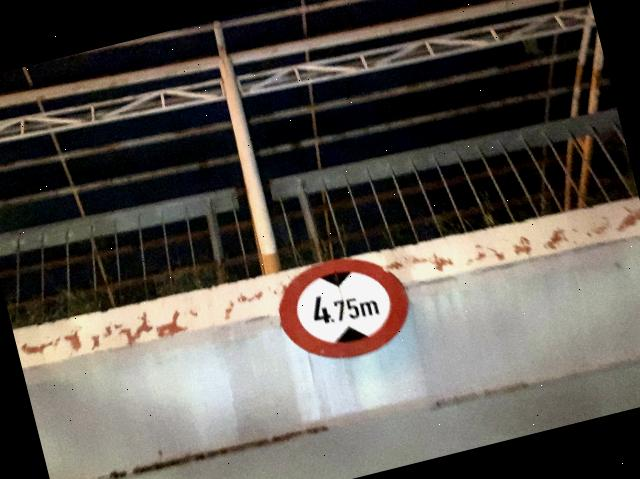han-che-chieu-cao: (270, 242, 418, 372)
